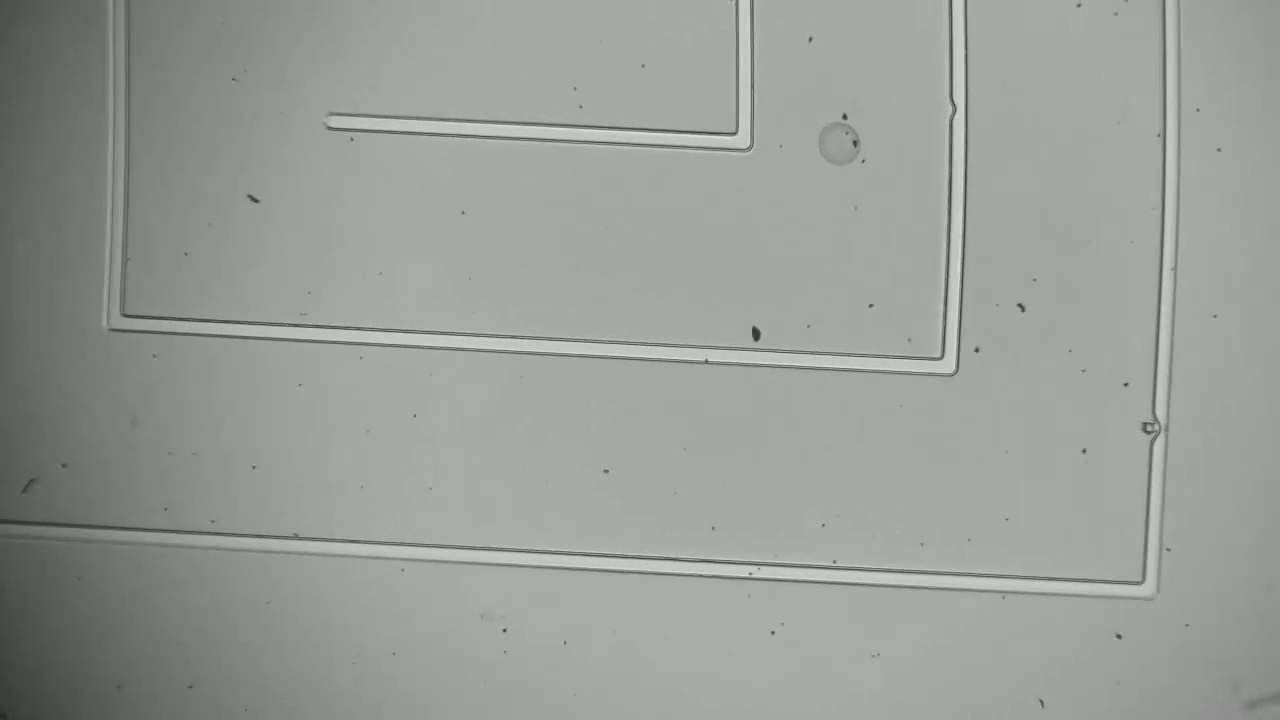edge_bite: (1131, 405, 1177, 455), (935, 93, 976, 129)
